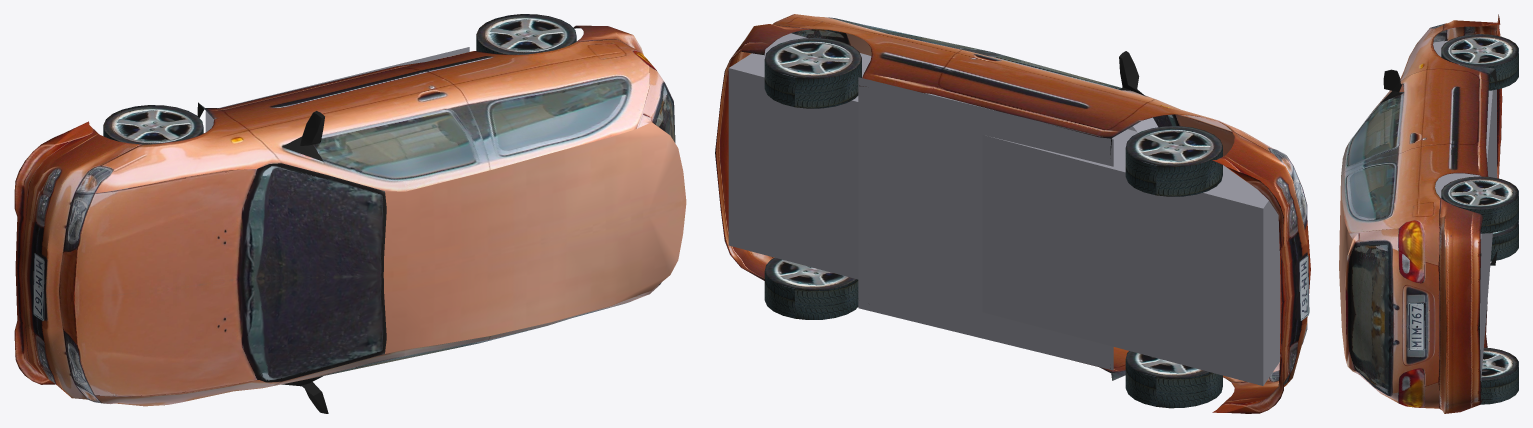
The model's file is Car_02.obj.
3 views of the same model, side by side, from view 1: azimuth 30°, elevation 25°; view 2: azimuth 150°, elevation 25°; view 3: azimuth 270°, elevation 25° (orthographic). The views are drawn at different scales.
Visible parts, largest first — view 1: _2body, _2tyres, _2fill, _2plates; view 2: _2fill, _2body, _2tyresurf, _2tyres, _2plates; view 3: _2body, _2tyres, _2tyresurf, _2fill, _2plates.
Part boxes in pixels (x1,y1,x2,y2): _2body: (14, 25, 686, 413); _2tyres: (103, 14, 576, 144); _2fill: (205, 47, 469, 132); _2plates: (33, 253, 44, 320); _2fill: (728, 33, 1280, 385); _2body: (715, 14, 1310, 413); _2tyresurf: (764, 58, 1222, 408); _2tyres: (764, 38, 1222, 378); _2plates: (1299, 255, 1309, 320); _2body: (1339, 14, 1502, 413); _2tyres: (1441, 34, 1518, 380); _2tyresurf: (1441, 53, 1518, 404); _2fill: (1399, 40, 1496, 381); _2plates: (1408, 302, 1424, 350).
Bounding box in the file's own units: 4.1 × 1.95 × 1.35.
